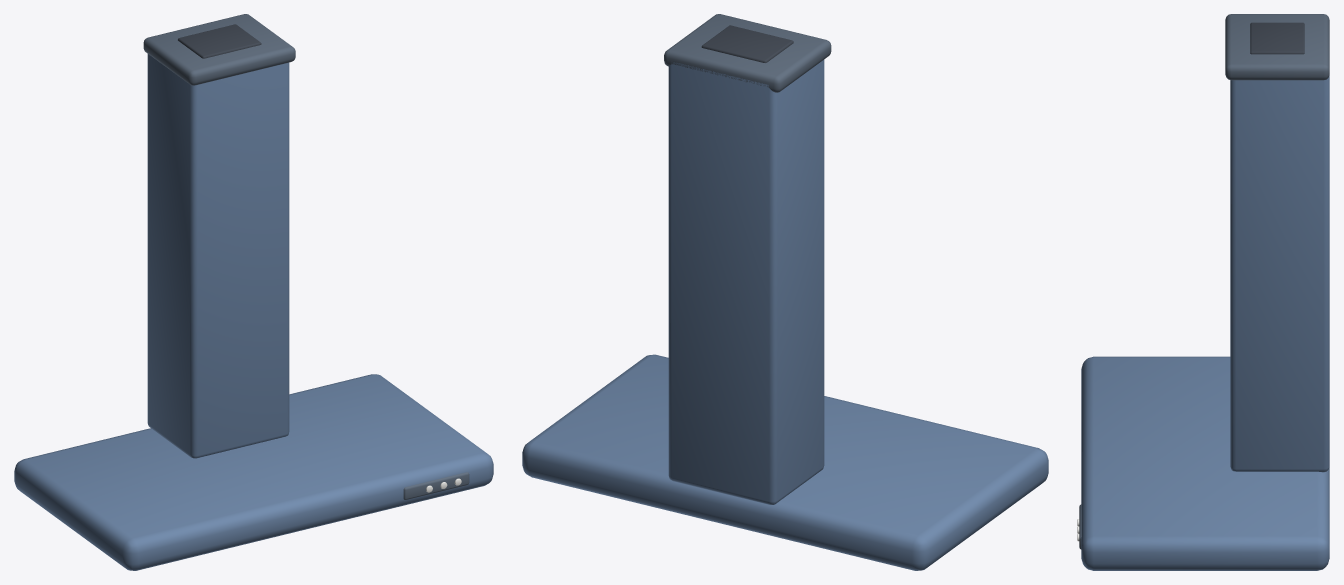
The model's file is coifa_t_azul.glb.
The picture shows the model from 3 angles, left to right: view 1: azimuth 30°, elevation 25°; view 2: azimuth 150°, elevation 25°; view 3: azimuth 270°, elevation 25°; orthographic projection. The views are drawn at different scales.
Parts seen in each view (by area): view 1: coifa_t_azul; view 2: coifa_t_azul; view 3: coifa_t_azul.
Part boxes in pixels (left/top/right/bottom): coifa_t_azul: left=14, top=14, right=493, bottom=570; coifa_t_azul: left=522, top=14, right=1048, bottom=570; coifa_t_azul: left=1077, top=14, right=1329, bottom=570.
Bounding box in the file's own units: 0.9 × 0.989 × 0.508.
2 materials, 1 textured.
